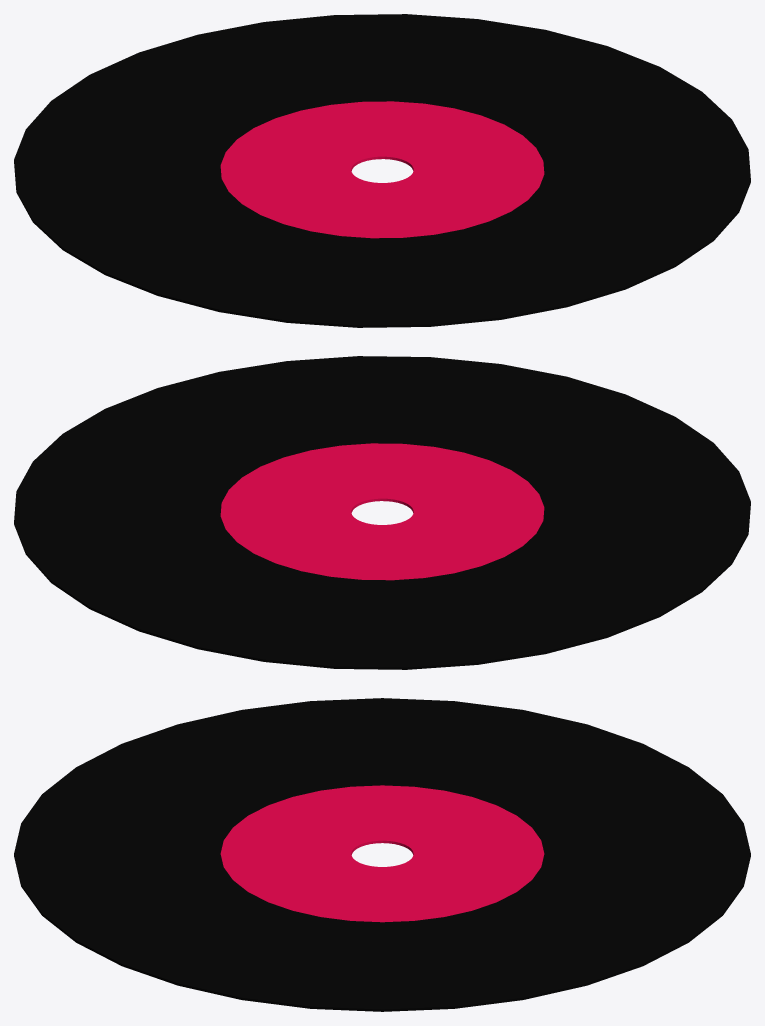
File: Vinyl RecordF.fbx
3 views of the same model, one above another, from view 1: azimuth 30°, elevation 25°; view 2: azimuth 150°, elevation 25°; view 3: azimuth 270°, elevation 25° (orthographic).
Parts seen in each view (by area): view 1: Cylinder; view 2: Cylinder; view 3: Cylinder.
Boxes of the visible parts, bbox=[...] form: Cylinder: bbox=[14, 14, 750, 327]; Cylinder: bbox=[14, 356, 750, 669]; Cylinder: bbox=[14, 698, 750, 1011].
Size of the model in its own units: 200 by 0.6936 by 200.
